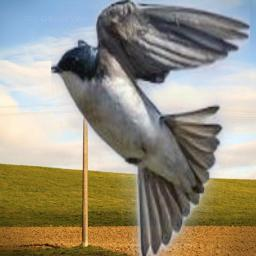Swallow: (51, 0, 250, 256)
